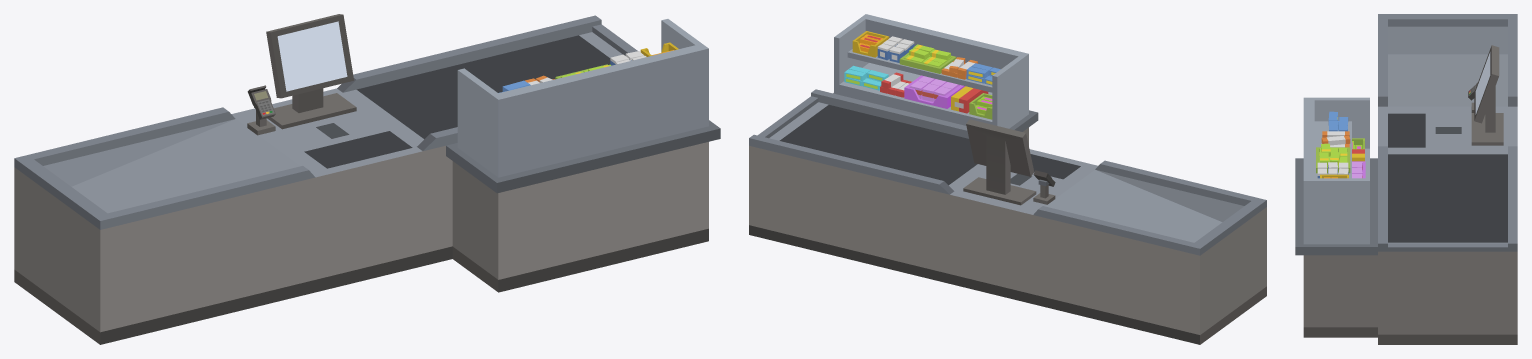
Rendered from CheckoutCounter.glb.
The picture shows the model from 3 angles, left to right: view 1: azimuth 30°, elevation 25°; view 2: azimuth 150°, elevation 25°; view 3: azimuth 270°, elevation 25°; orthographic projection. The views are drawn at different scales.
Parts seen in each view (by area): view 1: SI_Prop_CheckoutCounter_01; view 2: SI_Prop_CheckoutCounter_01; view 3: SI_Prop_CheckoutCounter_01.
Boxes of the visible parts, x1,y1,x2,y2 form: SI_Prop_CheckoutCounter_01: (14,14,720,344); SI_Prop_CheckoutCounter_01: (749,14,1266,344); SI_Prop_CheckoutCounter_01: (1295,14,1517,344).
Size of the model in its own units: 0.0781 by 0.026 by 0.0319.
1 material, 1 textured.
